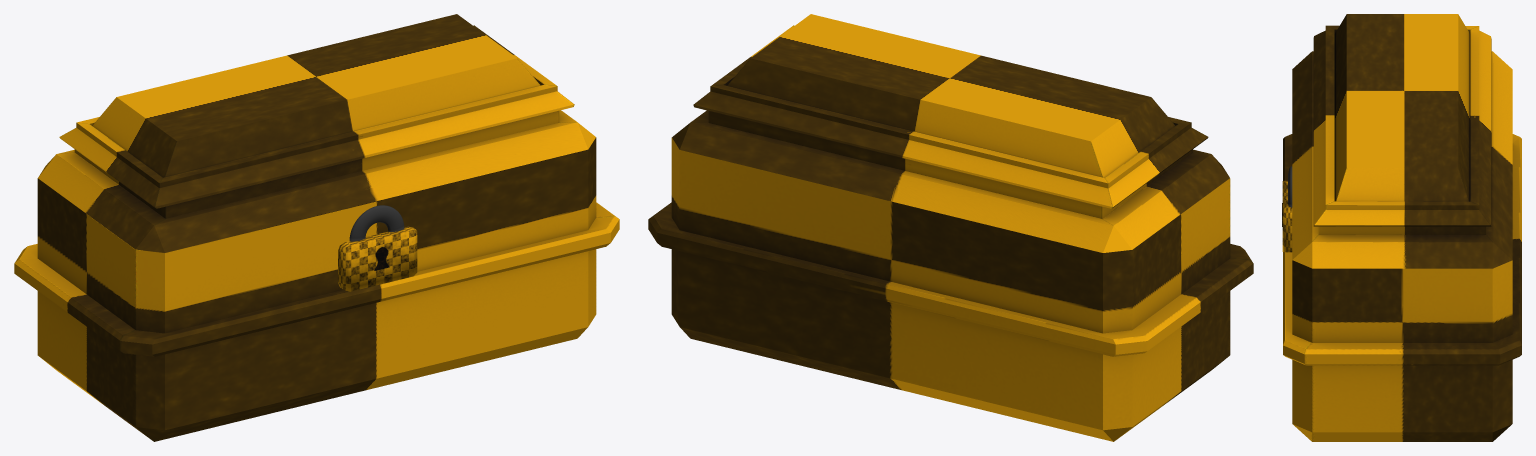
The model's file is GameChestLarge.fbx.
3 views of the same model, side by side, from view 1: azimuth 30°, elevation 25°; view 2: azimuth 150°, elevation 25°; view 3: azimuth 270°, elevation 25° (orthographic). The views are drawn at different scales.
Visible parts, largest first — view 1: Chest_Long, Chest_Lid, Chest_Long_Lock; view 2: Chest_Long, Chest_Lid; view 3: Chest_Lid, Chest_Long, Chest_Long_Lock.
Boxes of the visible parts, bbox=[...] form: Chest_Long: bbox=[14, 137, 619, 441]; Chest_Lid: bbox=[38, 14, 595, 252]; Chest_Long_Lock: bbox=[338, 205, 417, 291]; Chest_Long: bbox=[648, 137, 1253, 441]; Chest_Lid: bbox=[672, 14, 1229, 252]; Chest_Lid: bbox=[1292, 14, 1512, 268]; Chest_Long: bbox=[1283, 134, 1521, 441]; Chest_Long_Lock: bbox=[1282, 166, 1292, 252].
Bounding box in the file's own units: 483 × 256 × 218.
Materials: 2 (2 with a texture image).
